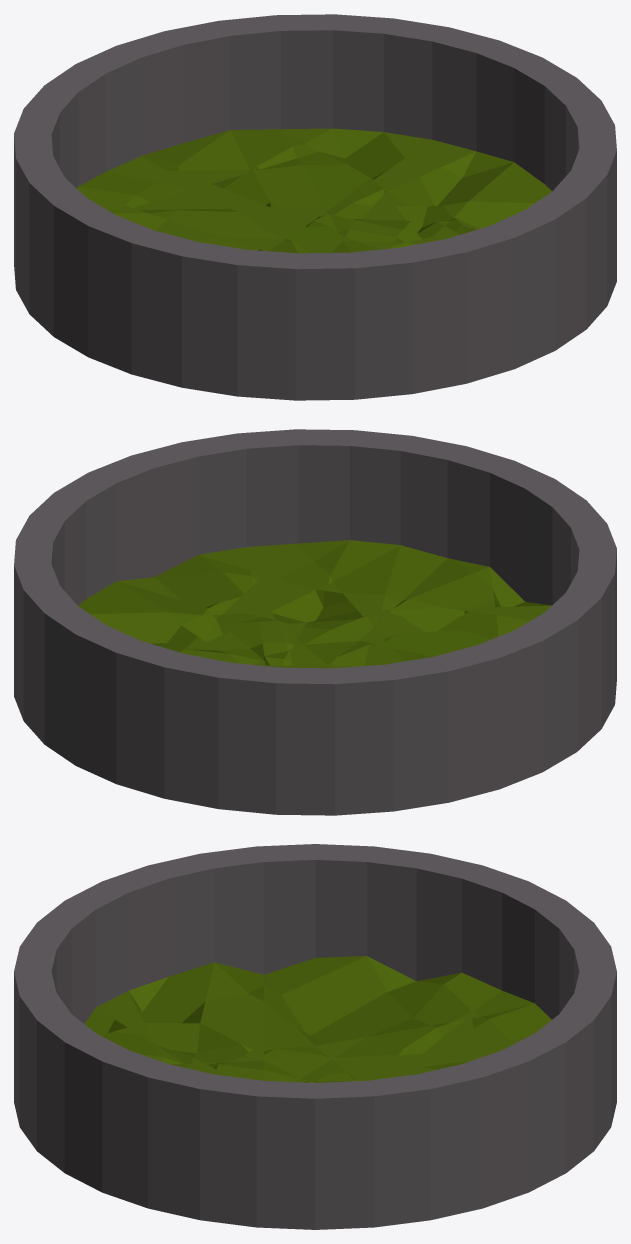
Rendered from decor_1.glb.
The picture shows the model from 3 angles, top to bottom: view 1: azimuth 30°, elevation 25°; view 2: azimuth 150°, elevation 25°; view 3: azimuth 270°, elevation 25°; orthographic projection.
Parts seen in each view (by area): view 1: Cylinder; view 2: Cylinder; view 3: Cylinder.
Boxes of the visible parts, box(x1,y1,x2,y2) form: Cylinder: box(14, 14, 616, 400); Cylinder: box(14, 429, 616, 815); Cylinder: box(14, 844, 616, 1229).
Bounding box in the file's own units: 5 × 1.2 × 5.
